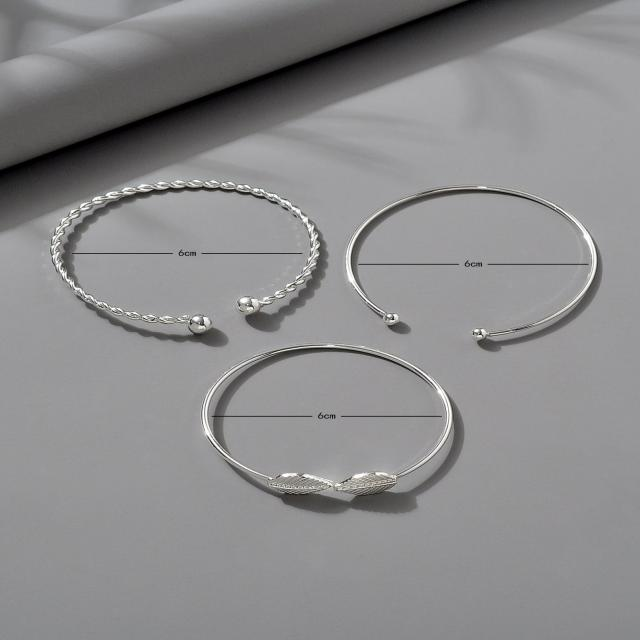bracelet: (157, 338, 566, 556), (39, 147, 364, 368), (355, 158, 640, 363)
